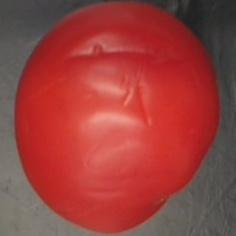unripe: (11, 0, 223, 236)
